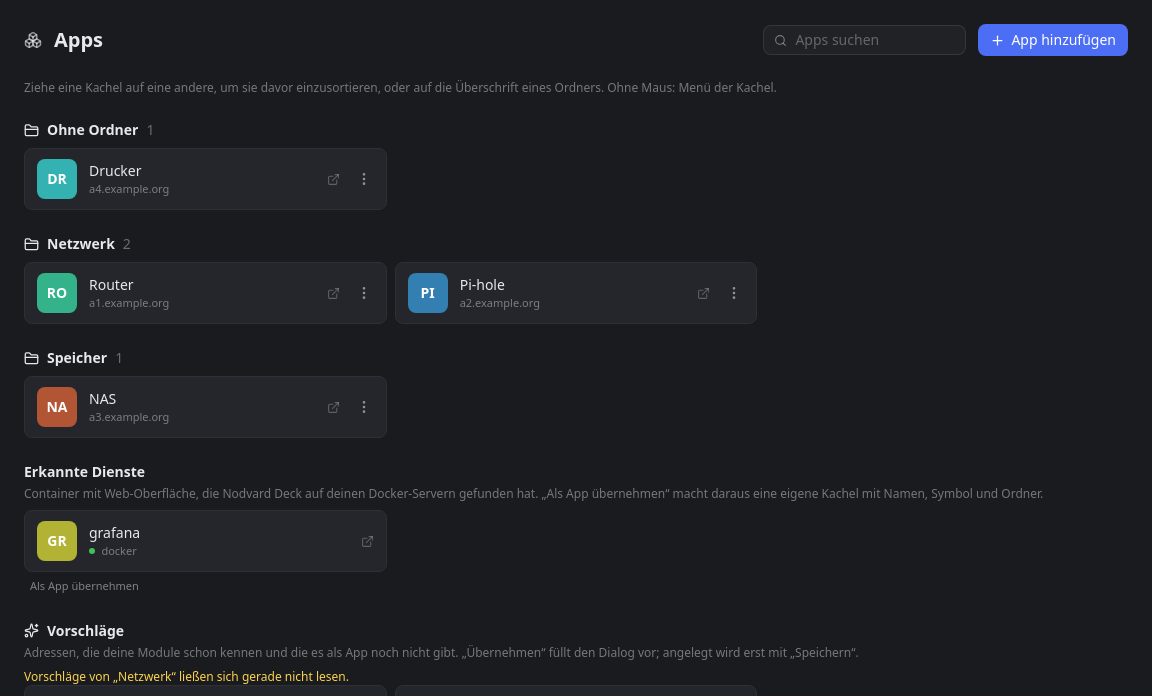
Seite „Apps“ › während einer Suche wird nicht gezogen
Expected: the element with test id "folder-Netzwerk" is shown, 24,234 -> 757,324
Type "rou" into the field labelled "Apps suchen" at (875, 40), box 795,30 -> 955,50
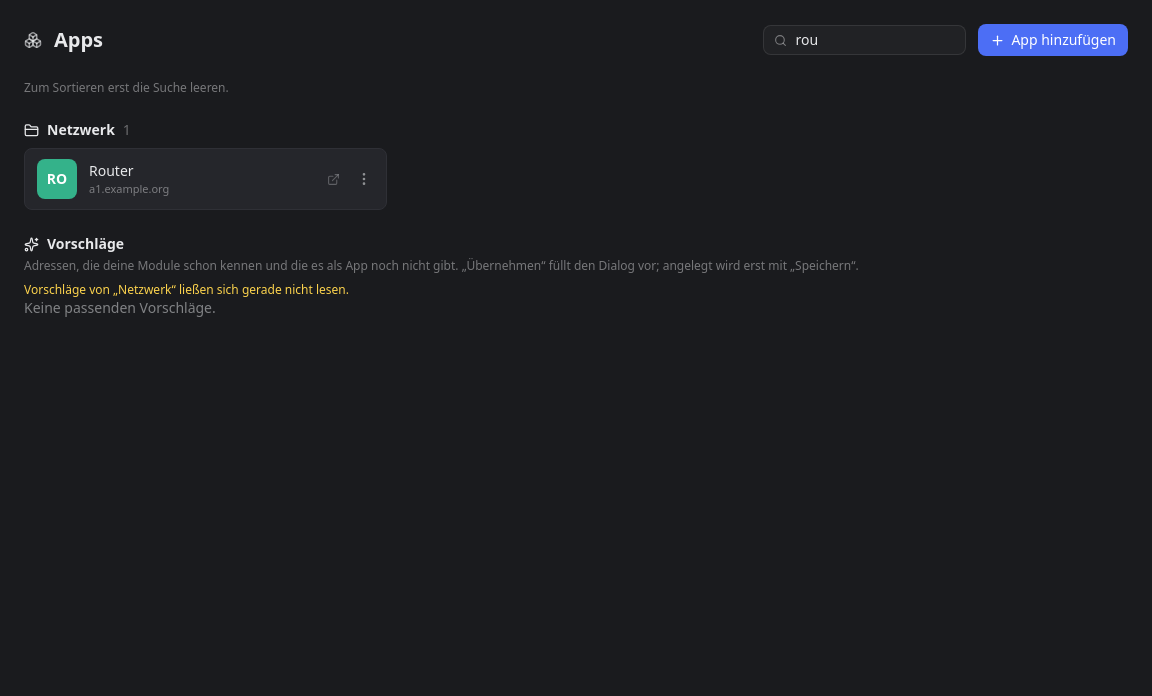
Expected: the text "Zum Sortieren erst die Suche leeren." is shown, 24,79 -> 229,96
